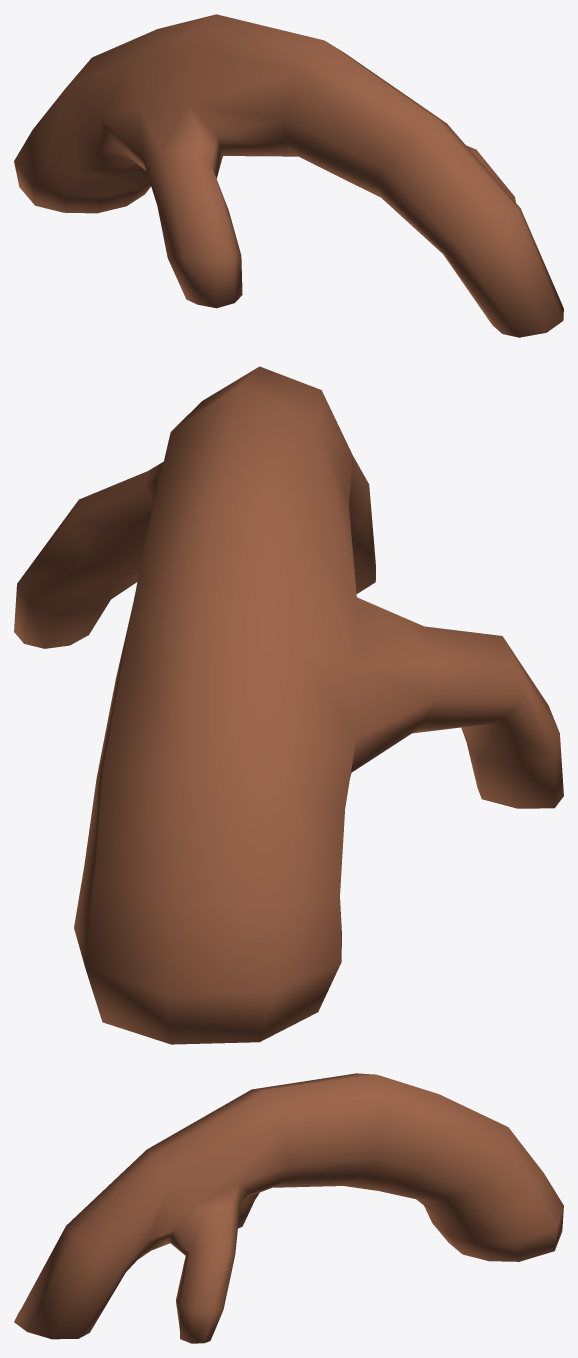
The picture shows the model from 3 angles, top to bottom: view 1: azimuth 30°, elevation 25°; view 2: azimuth 150°, elevation 25°; view 3: azimuth 270°, elevation 25°; orthographic projection. The views are drawn at different scales.
Parts seen in each view (by area): view 1: Root_03_LOD2_Cylinder.601; view 2: Root_03_LOD2_Cylinder.601; view 3: Root_03_LOD2_Cylinder.601.
Part boxes in pixels (bbox=[...]): Root_03_LOD2_Cylinder.601: bbox=[14, 14, 563, 337]; Root_03_LOD2_Cylinder.601: bbox=[14, 366, 563, 1044]; Root_03_LOD2_Cylinder.601: bbox=[14, 1073, 563, 1343].
Bounding box in the file's own units: 3.68 × 2.31 × 5.77.
Materials: 1 (1 with a texture image).
